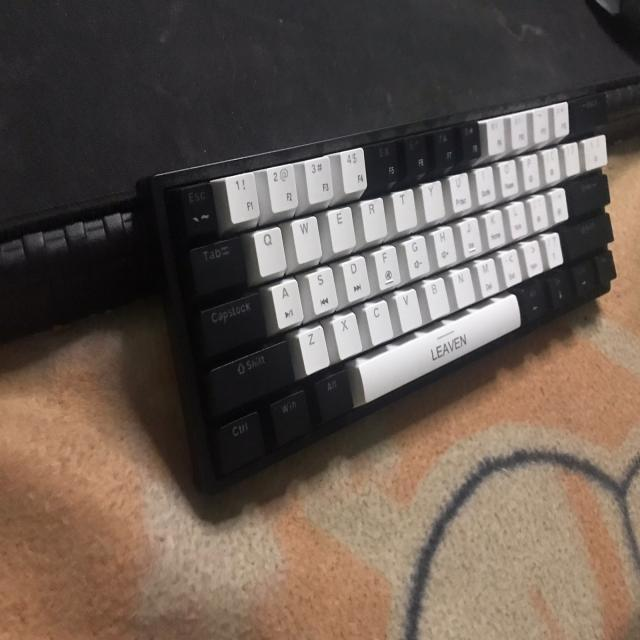-mouse-: (138, 89, 618, 495)
